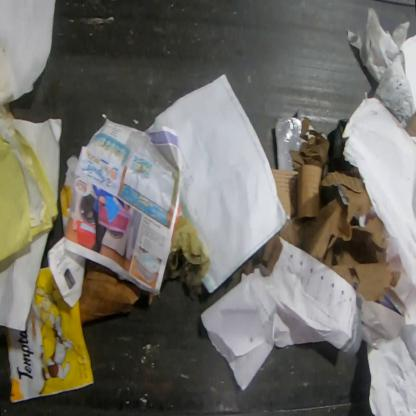cardboard: (79, 258, 143, 325), (271, 163, 323, 221), (403, 110, 415, 137)
soft_plastic: (5, 265, 95, 404), (0, 0, 57, 100), (274, 116, 304, 170)
